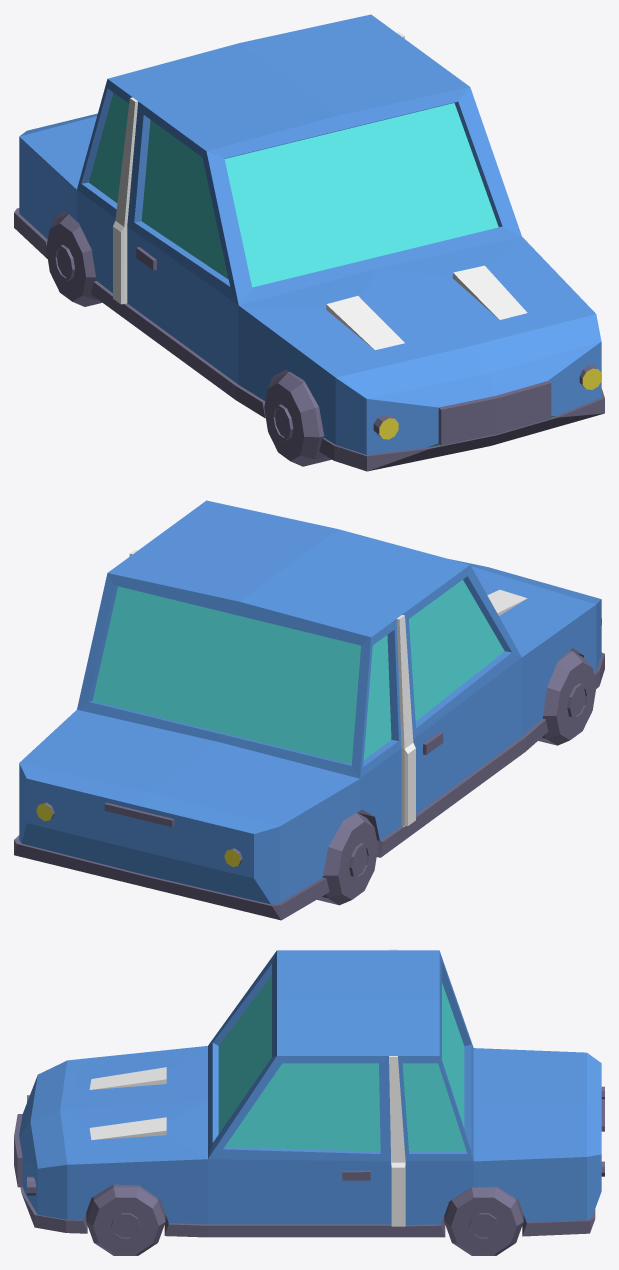
The model's file is basic1.fbx.
3 views of the same model, one above another, from view 1: azimuth 30°, elevation 25°; view 2: azimuth 150°, elevation 25°; view 3: azimuth 270°, elevation 25° (orthographic). The views are drawn at different scales.
Parts seen in each view (by area): view 1: Car; view 2: Car; view 3: Car.
Part boxes in pixels (<box>): Car: <box>14,14,604,471</box>; Car: <box>14,500,604,920</box>; Car: <box>14,949,604,1255</box>.
Bounding box in the file's own units: 34.19 × 26.88 × 71.45.
